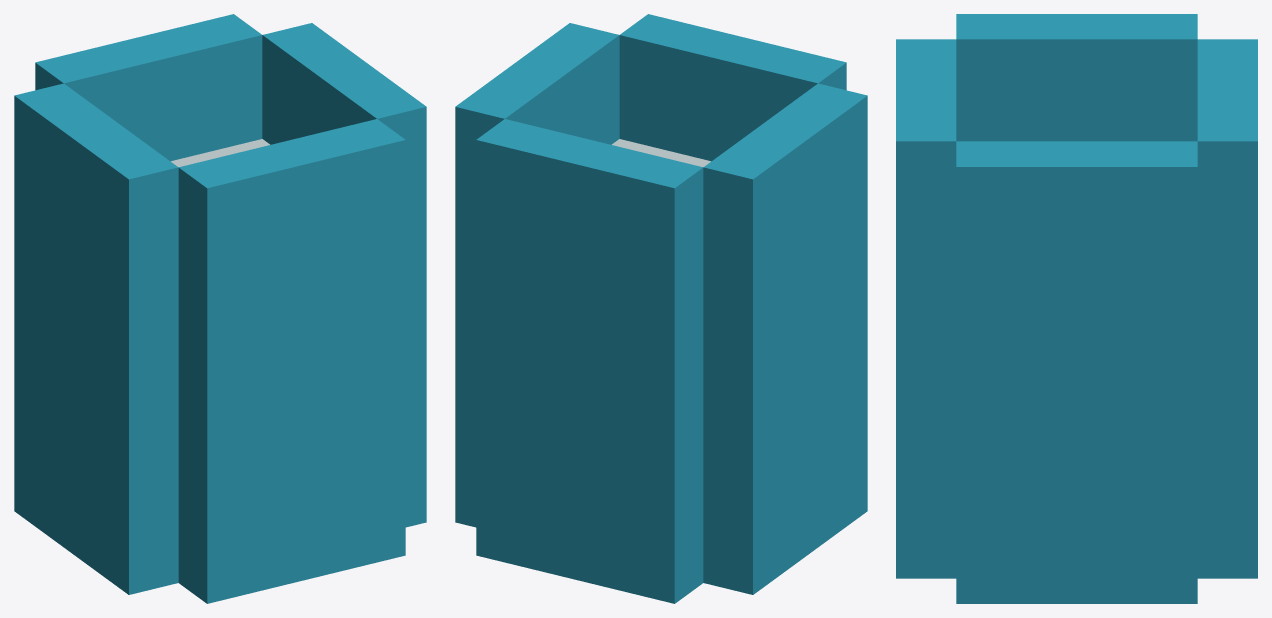
3 views of the same model, side by side, from view 1: azimuth 30°, elevation 25°; view 2: azimuth 150°, elevation 25°; view 3: azimuth 270°, elevation 25° (orthographic). The views are drawn at different scales.
Visible parts, largest first — view 1: 92; view 2: 92; view 3: 92.
Part boxes in pixels (x1,y1,x2,y2): 92: (14,14,426,603); 92: (455,14,867,603); 92: (896,14,1257,603).
Size of the model in its own units: 0.2362 by 0.315 by 0.2362.
1 material, 1 textured.
